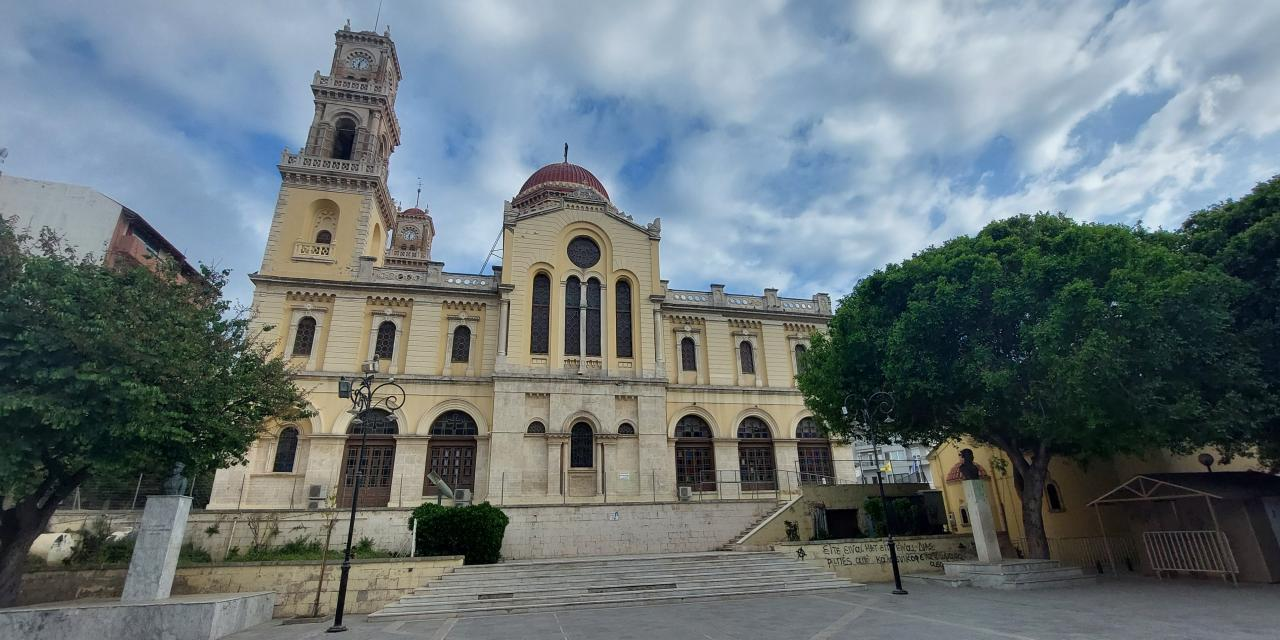Agios Minas: (207, 5, 858, 522)
